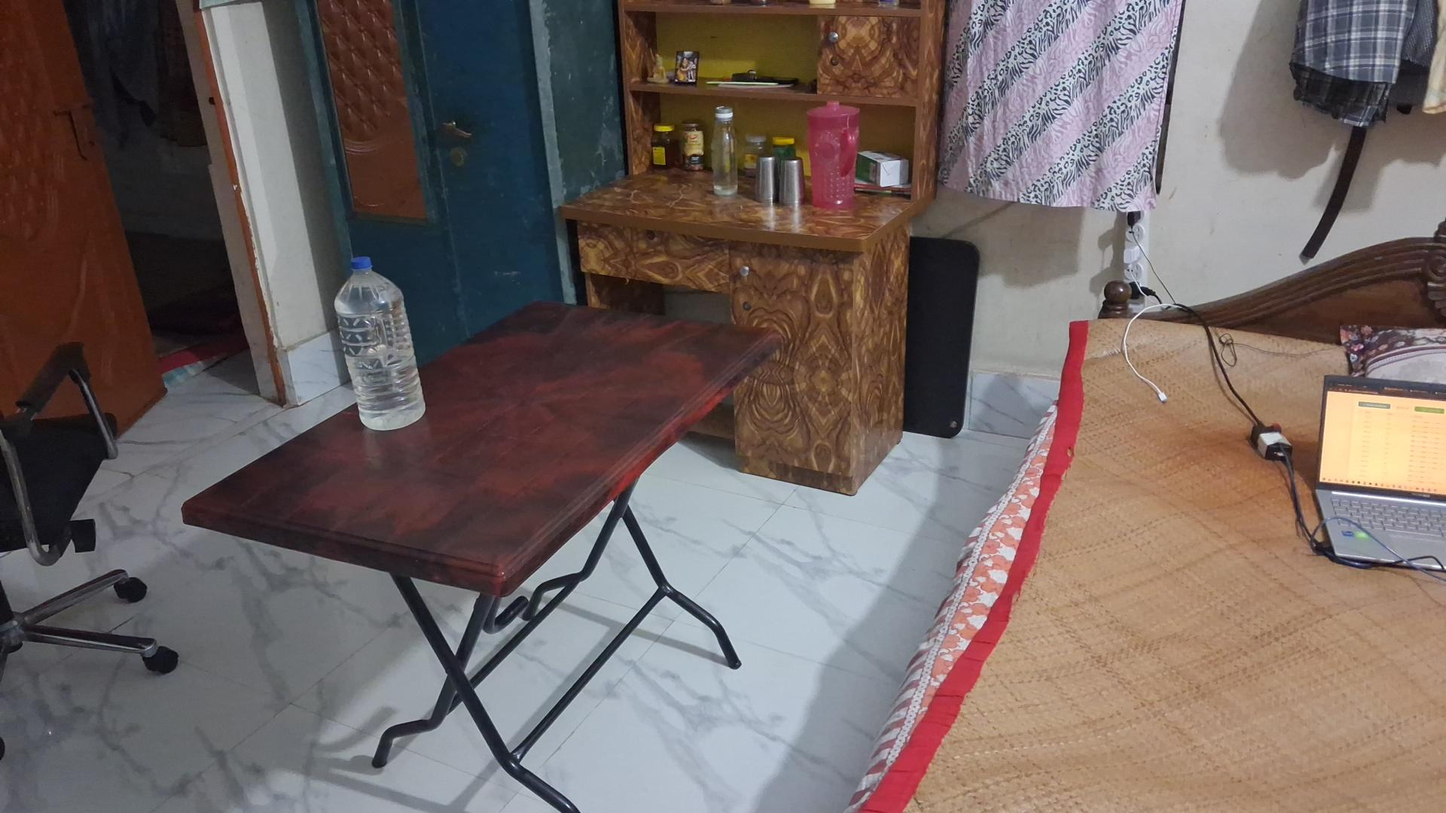Bottle: (333, 256, 426, 432), (711, 106, 738, 196)
Box: (856, 146, 909, 186)
Glass: (776, 157, 808, 210), (754, 154, 779, 205)
Jar: (647, 121, 682, 174), (682, 120, 705, 174)
Jug: (805, 100, 859, 211)
Laptop: (1313, 374, 1445, 572)
Table: (162, 288, 802, 813)
